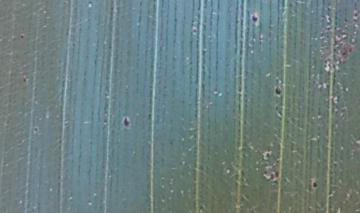tarspot: (120, 113, 132, 131), (247, 11, 262, 25), (309, 178, 320, 191), (273, 84, 283, 97), (30, 123, 41, 134), (16, 29, 26, 41), (20, 73, 28, 84)
